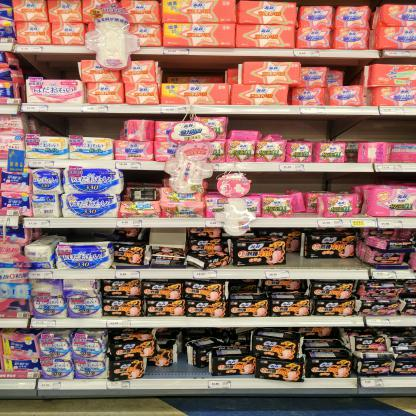Void: (294, 117, 415, 140), (31, 113, 125, 138), (160, 60, 228, 82), (24, 58, 81, 78), (286, 255, 366, 269), (151, 363, 216, 378), (234, 114, 290, 131), (51, 226, 109, 241), (146, 226, 185, 248), (126, 171, 164, 186), (344, 60, 362, 84)
